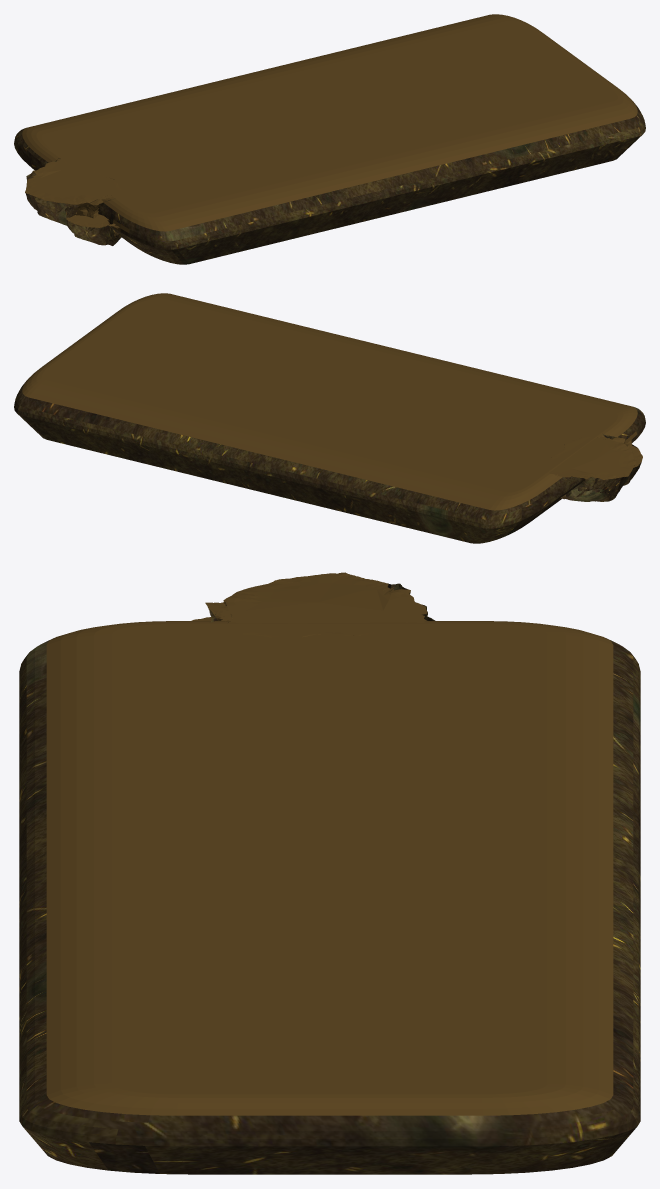
Rendered from GrassTerrain_007_textured.glb.
3 renders of one model, top to bottom at view 1: azimuth 30°, elevation 25°; view 2: azimuth 150°, elevation 25°; view 3: azimuth 270°, elevation 25°, orthographic. The views are drawn at different scales.
Parts seen in each view (by area): view 1: 立方体.007; view 2: 立方体.007; view 3: 立方体.007.
Part boxes in pixels (<box>): 立方体.007: <box>14,14,645,264</box>; 立方体.007: <box>14,293,645,543</box>; 立方体.007: <box>19,572,640,1174</box>.
Size of the model in its own units: 1939 by 145 by 935.
2 materials, 1 textured.
